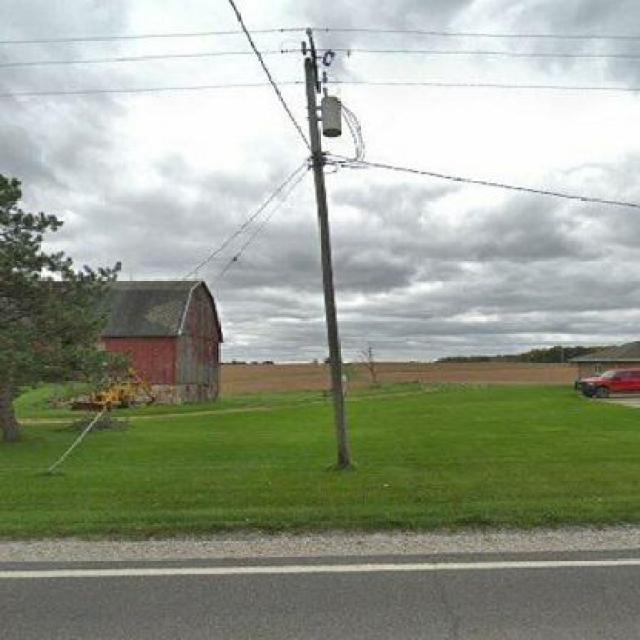pole: (260, 23, 388, 466)
